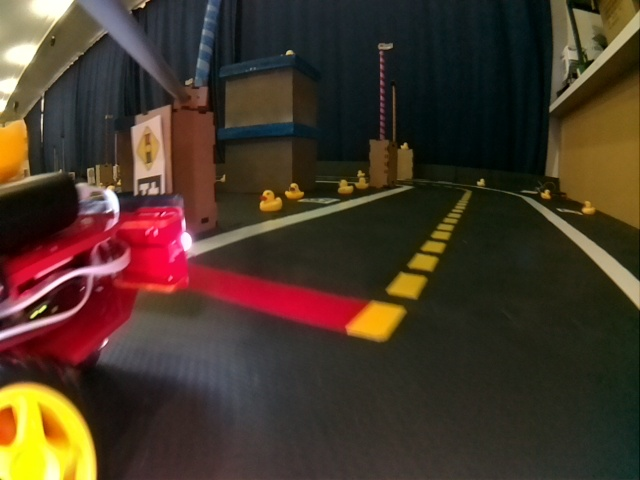Duckie: (259, 190, 282, 211), (286, 183, 305, 199), (337, 180, 351, 194), (583, 201, 592, 215), (356, 179, 366, 189), (477, 178, 486, 187), (542, 190, 551, 198)
Duckiebot: (1, 175, 192, 394)
QR code: (138, 177, 163, 194), (556, 207, 579, 217)
